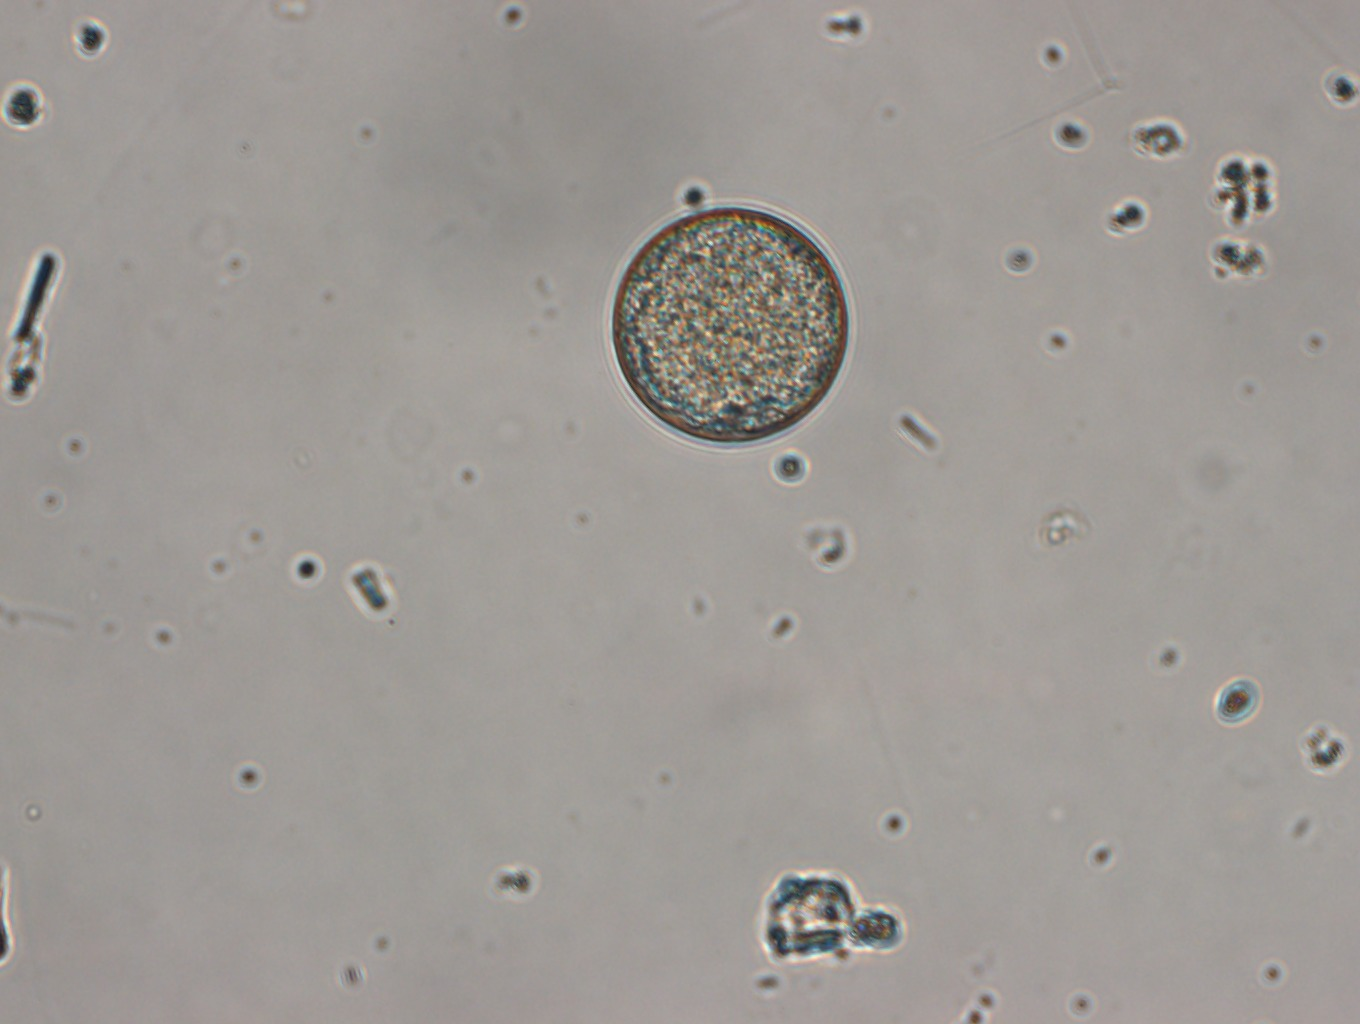coscinodiscus: (606, 203, 861, 446)
